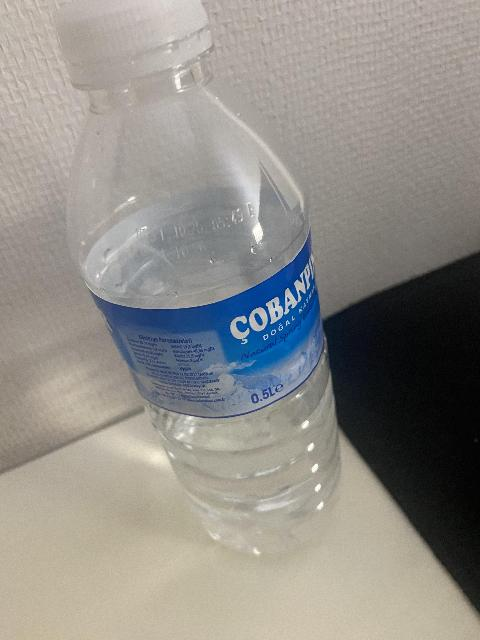Plastik: (46, 0, 373, 552), (51, 0, 206, 78)
